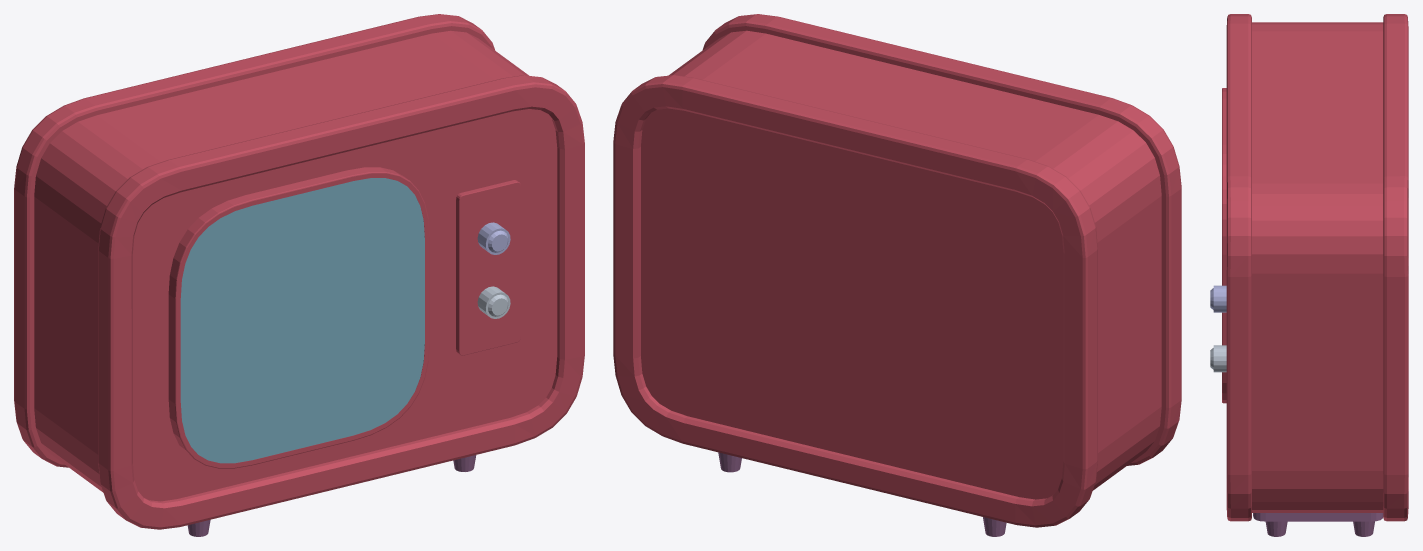
3 renders of one model, left to right at view 1: azimuth 30°, elevation 25°; view 2: azimuth 150°, elevation 25°; view 3: azimuth 270°, elevation 25°, orthographic. The views are drawn at different scales.
Parts seen in each view (by area): view 1: world; view 2: world; view 3: world.
Boxes of the visible parts, box(x1,y1,x2,y2) form: world: box(14, 14, 584, 536); world: box(613, 14, 1181, 536); world: box(1210, 14, 1408, 536).
Bounding box in the file's own units: 1 × 0.7926 × 0.3863.
